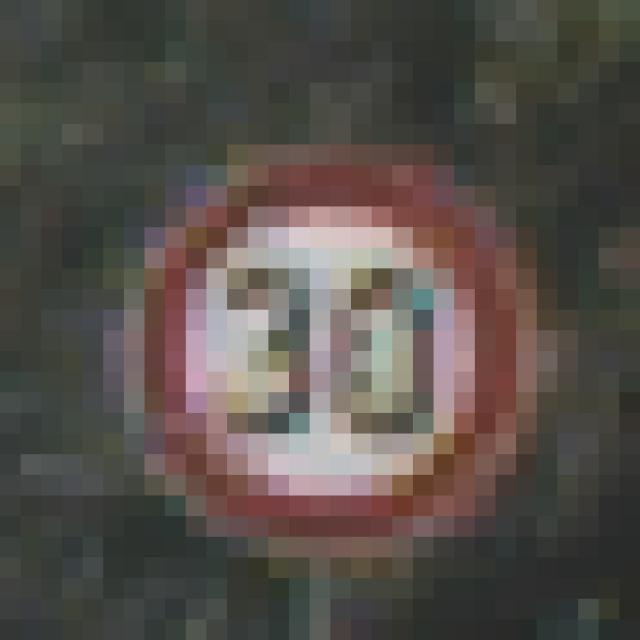Speed Limit -30-: (93, 93, 506, 506)
